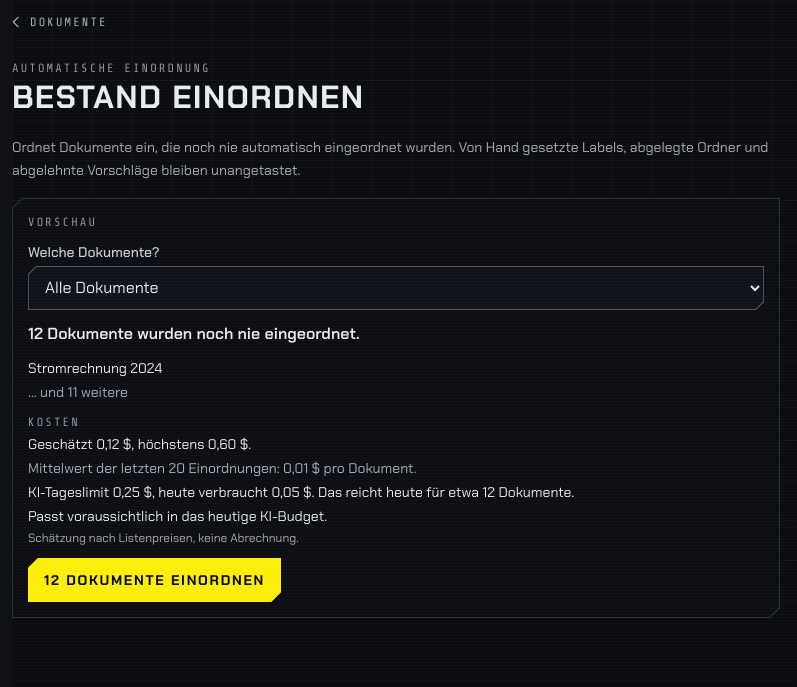
bulk classification › shows a refused start because the documents changed and loads the new preview
Click the button with test id "bulk-start-button" at (155, 580), box [28, 558, 281, 602]
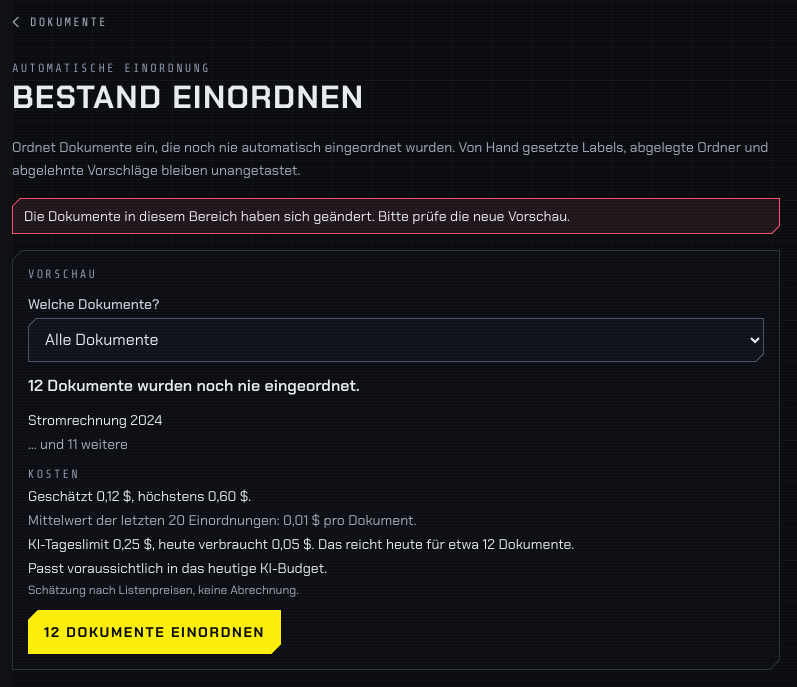
expect the message shows "haben sich geändert": met, box [24, 207, 570, 225]
